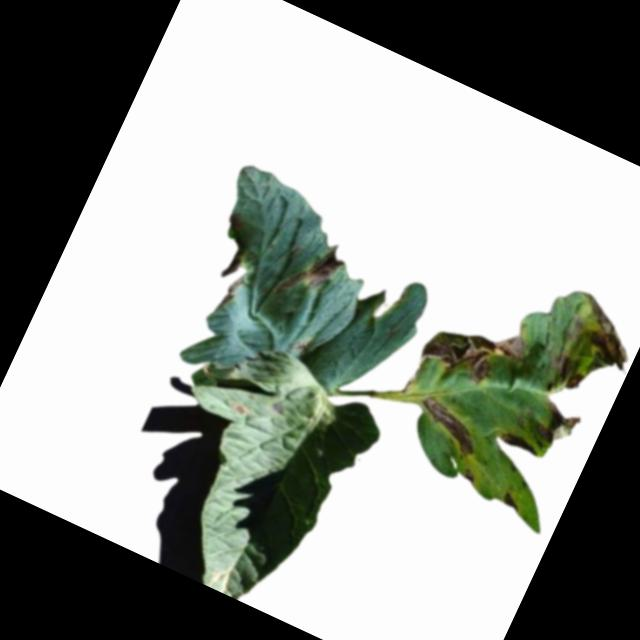Early_blight: (418, 300, 531, 398), (563, 293, 640, 376), (274, 234, 349, 315), (407, 391, 490, 462), (528, 396, 587, 455), (541, 345, 593, 395), (498, 429, 542, 459), (496, 490, 523, 514), (226, 399, 253, 420), (459, 468, 479, 486), (268, 401, 288, 418)
